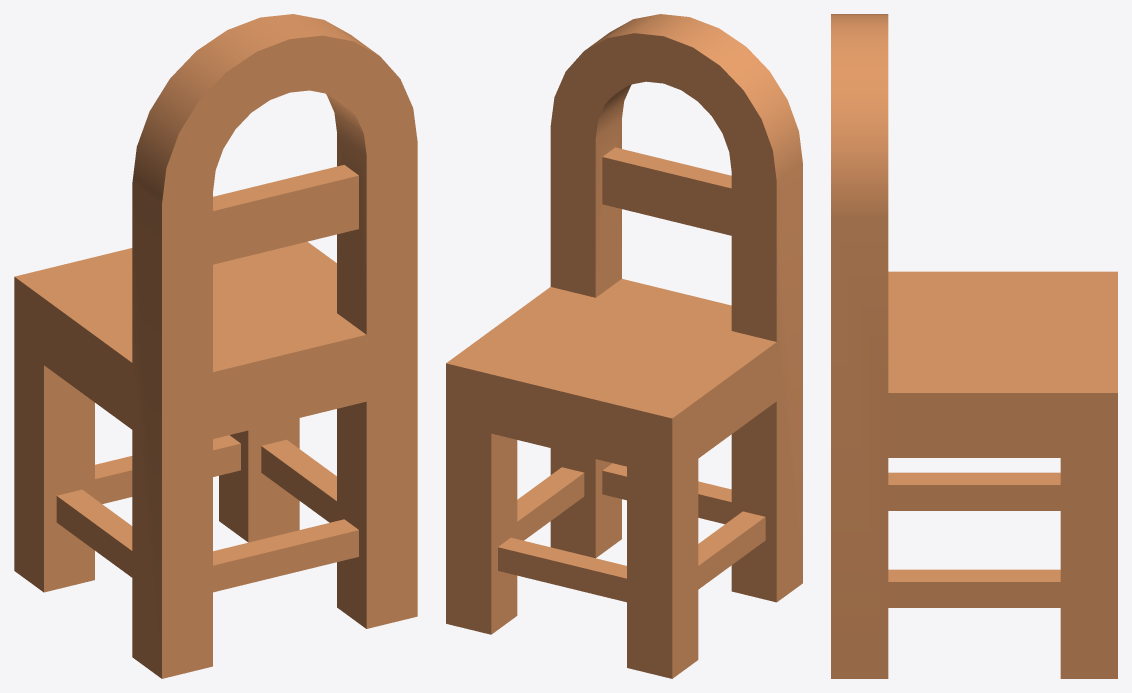
The model's file is Chair Rounded.glb.
3 views of the same model, side by side, from view 1: azimuth 30°, elevation 25°; view 2: azimuth 150°, elevation 25°; view 3: azimuth 270°, elevation 25° (orthographic). The views are drawn at different scales.
Visible parts, largest first — view 1: chairRounded; view 2: chairRounded; view 3: chairRounded.
Part boxes in pixels (x1,y1,x2,y2): chairRounded: (14, 14, 417, 678); chairRounded: (446, 14, 802, 678); chairRounded: (831, 14, 1117, 678).
Bounding box in the file's own units: 0.2 × 0.455 × 0.2.
